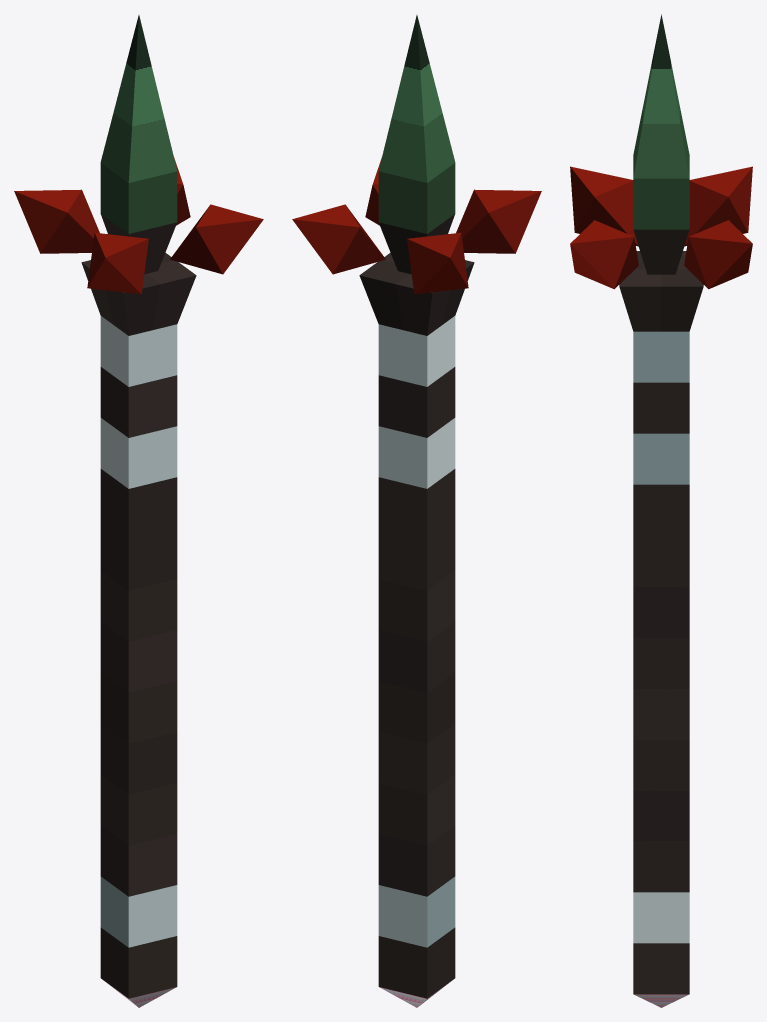
File: wand_desertnova.obj
3 views of the same model, side by side, from view 1: azimuth 30°, elevation 25°; view 2: azimuth 150°, elevation 25°; view 3: azimuth 270°, elevation 25° (orthographic).
Visible parts, largest first — view 1: WAND_VAR14_Cube.023; view 2: WAND_VAR14_Cube.023; view 3: WAND_VAR14_Cube.023.
Boxes of the visible parts, bbox=[...] form: WAND_VAR14_Cube.023: bbox=[14, 15, 263, 1007]; WAND_VAR14_Cube.023: bbox=[292, 15, 541, 1007]; WAND_VAR14_Cube.023: bbox=[570, 14, 752, 1007].
Size of the model in its own units: 0.2032 by 1.22 by 0.2032.
